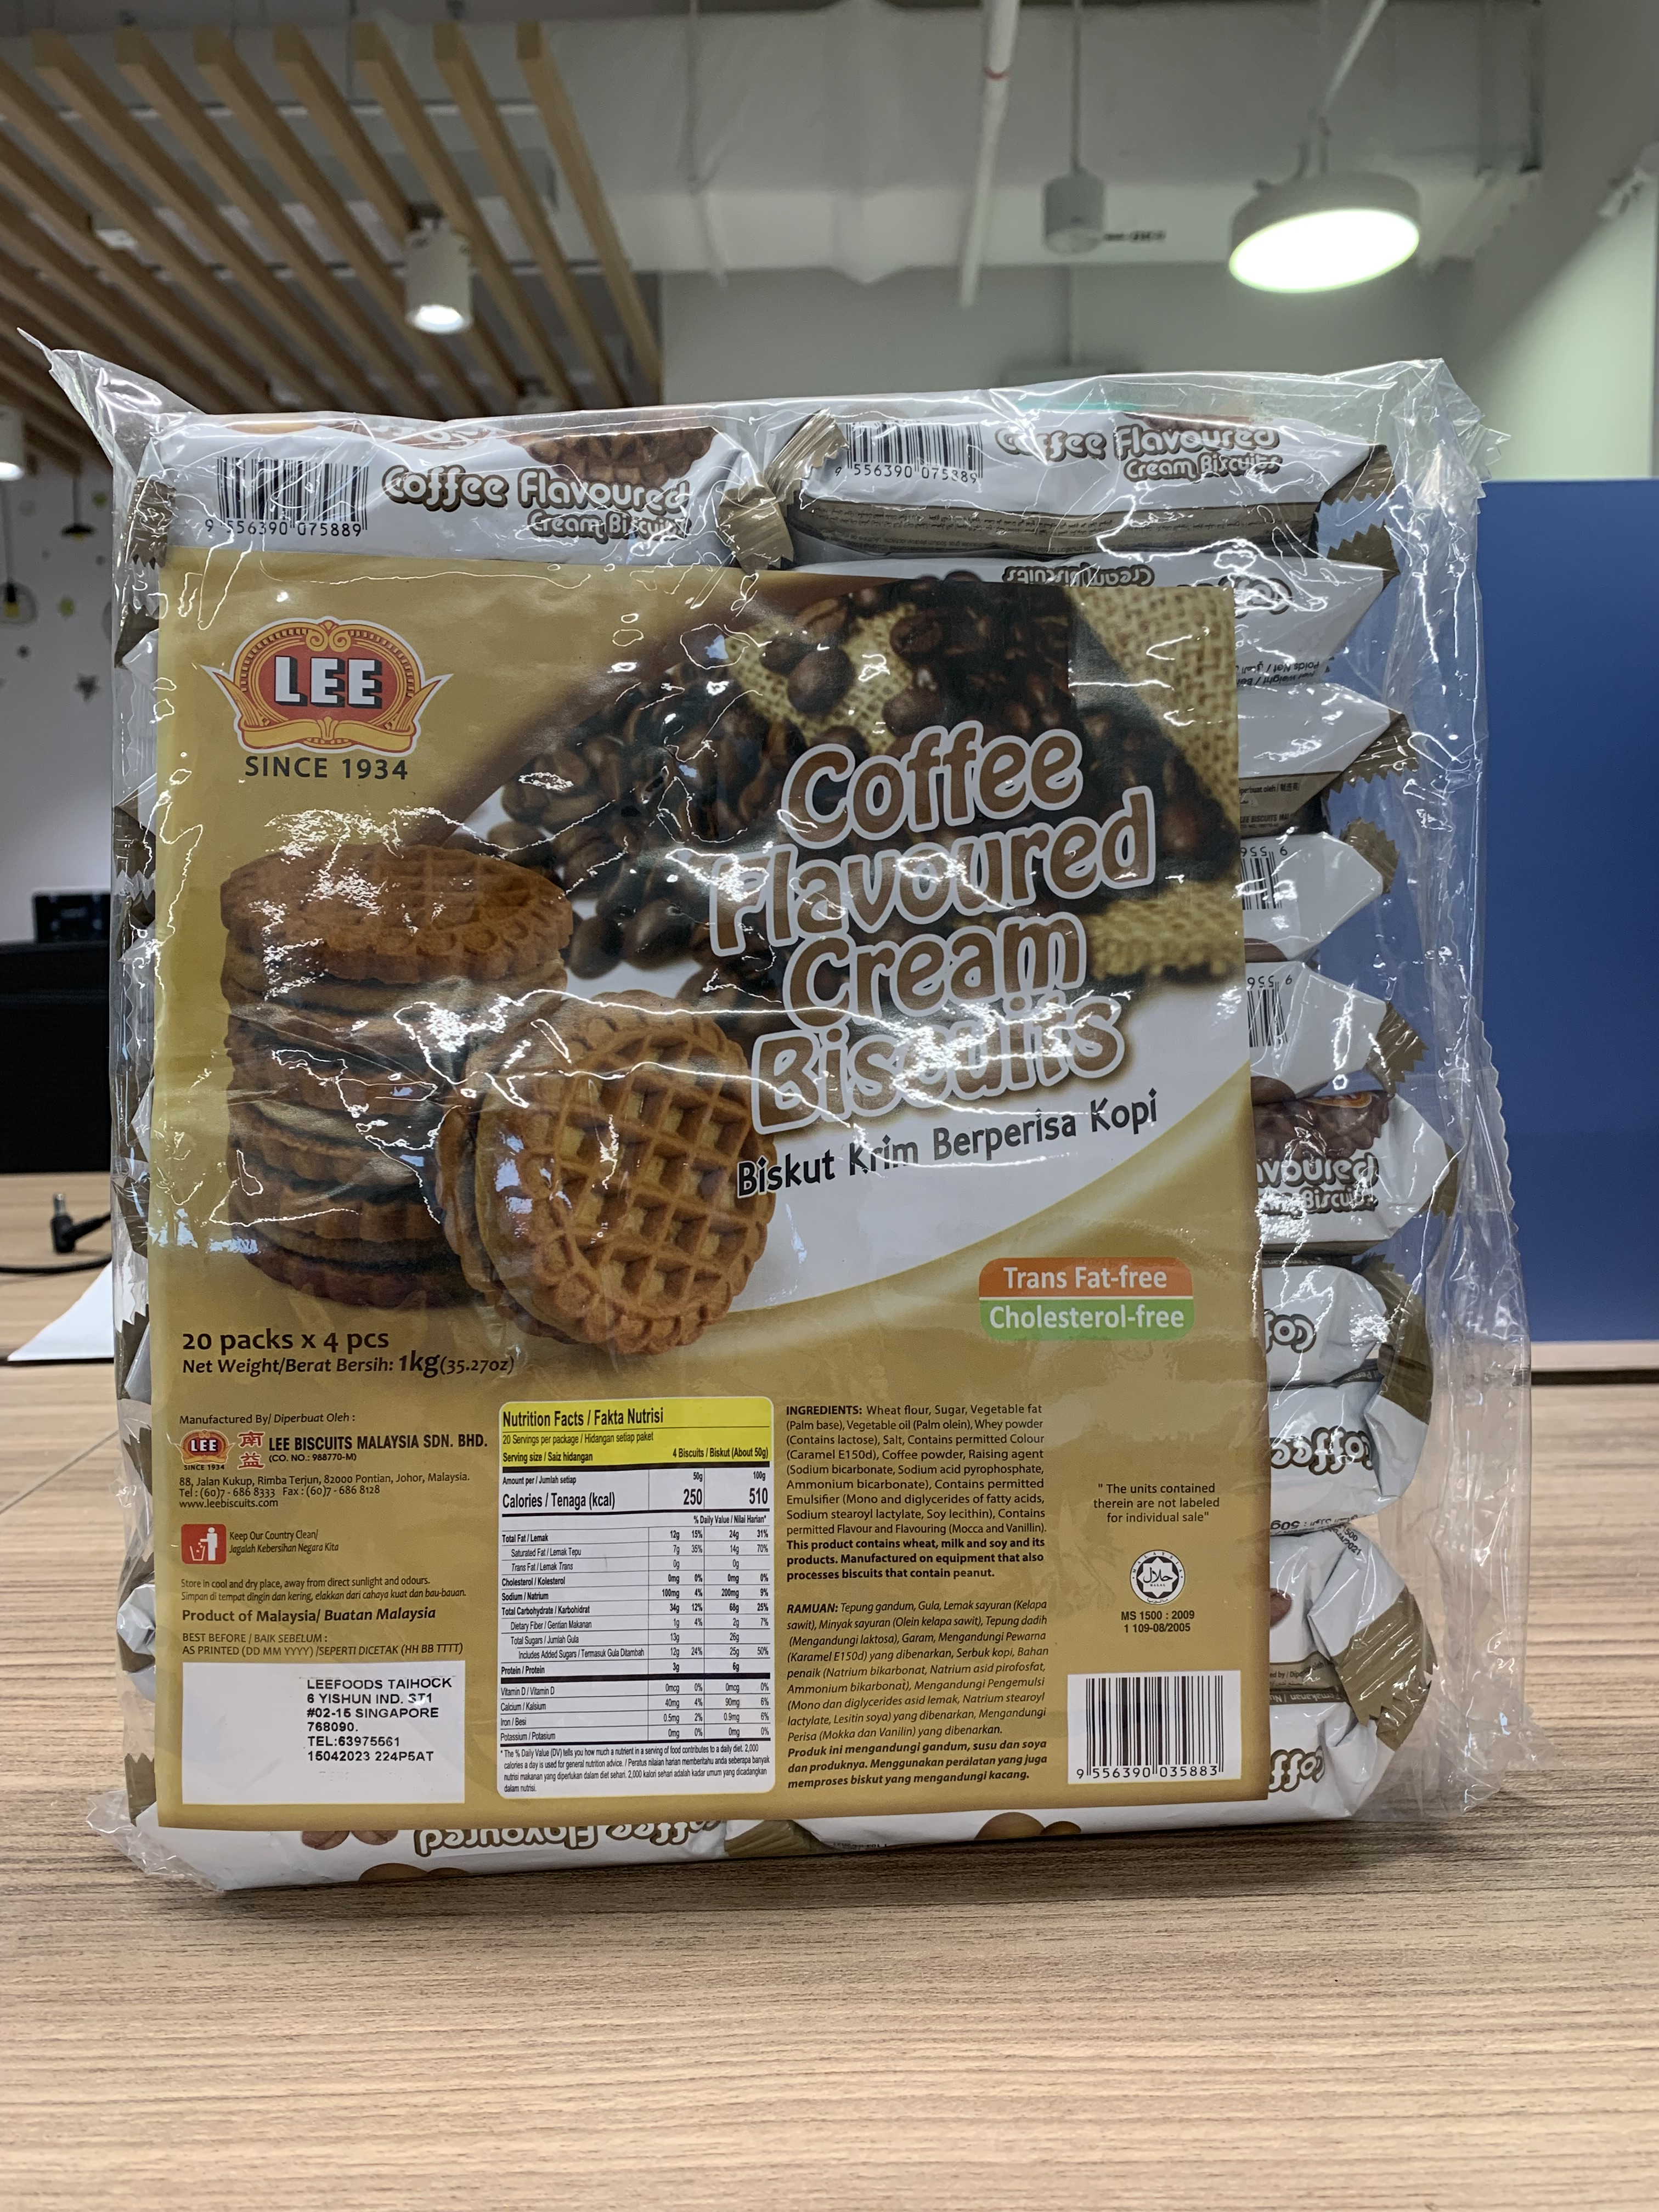cookies_1kg-1.99kg: (143, 413, 1420, 1818)
